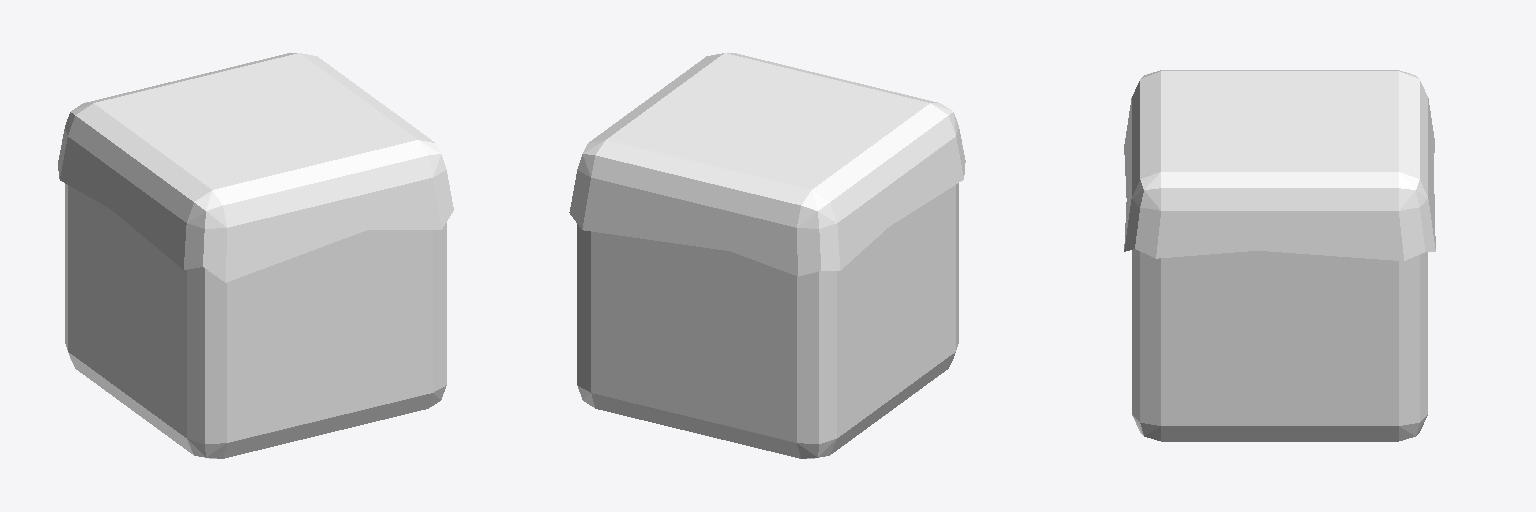
Rendered from Grass_Solo.obj.
3 renders of one model, left to right at view 1: azimuth 30°, elevation 25°; view 2: azimuth 150°, elevation 25°; view 3: azimuth 270°, elevation 25°, orthographic.
Visible parts, largest first — view 1: Grass_Solo; view 2: Grass_Solo; view 3: Grass_Solo.
Boxes of the visible parts, <box> form: Grass_Solo: <box>58,53,453,458</box>; Grass_Solo: <box>569,53,965,458</box>; Grass_Solo: <box>1124,70,1435,441</box>.
Size of the model in its own units: 1.04 by 1 by 1.05.